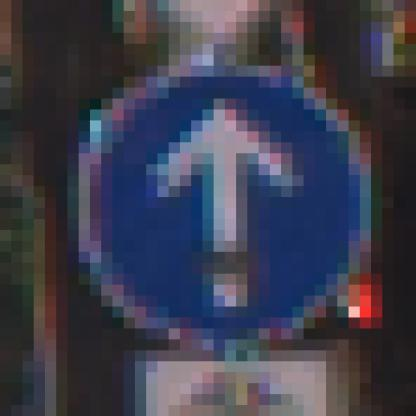straight: (44, 66, 382, 350)
